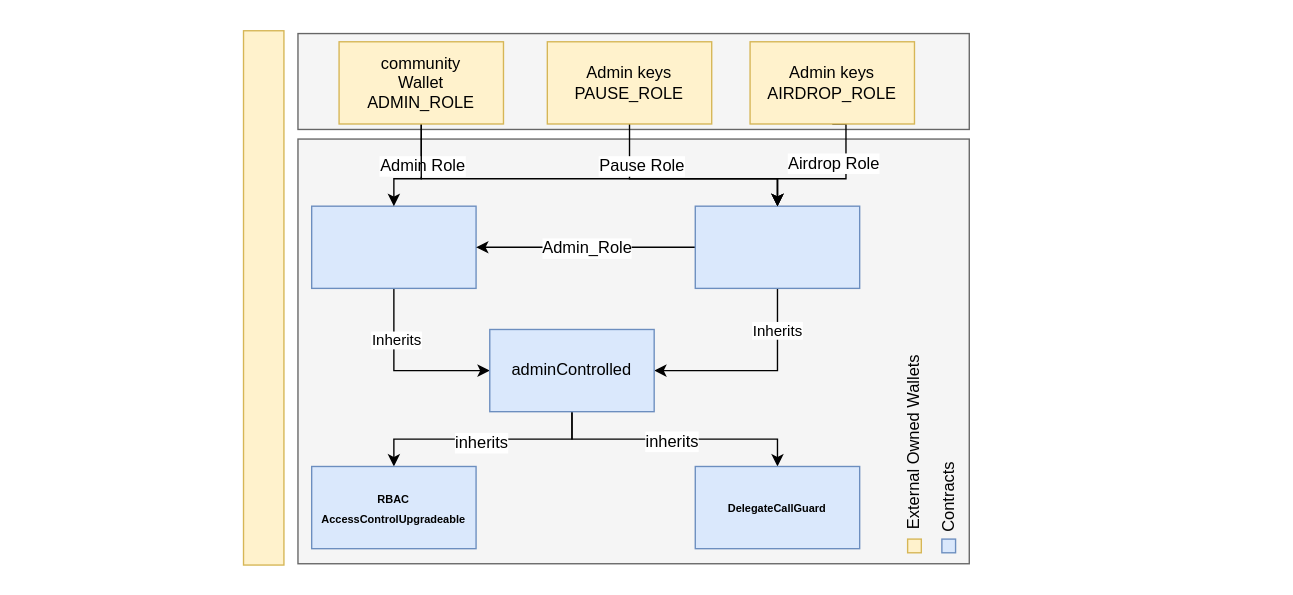
Image size: 1293x595. Some labels were removed from this diagram. The shapes that lost their labels are listed below. From the top down, each one's box as (x1, y1, x2, y2) in pixels, then its label:
(310, 205, 476, 288): Treasury
(694, 205, 860, 288): JetStaking
(242, 29, 284, 565): Proxy Admin Wallet
